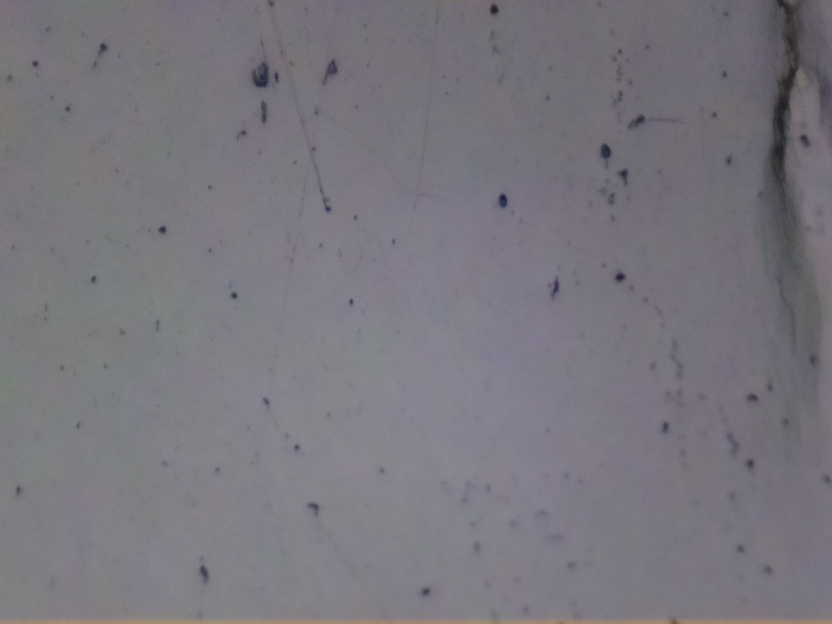crack: (762, 0, 827, 208)
